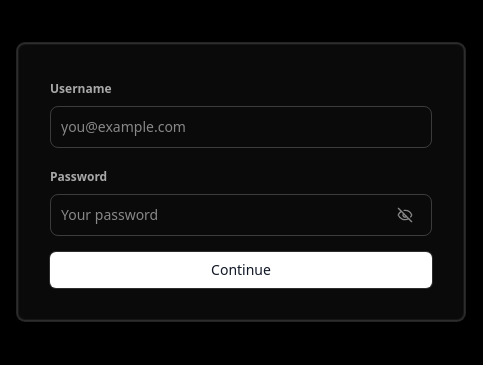
FluidLoginScreen runtime host › surfaces a validation failure instead of submitting
Type "ada@example.com" into the field with placeholder "you@example.com" at [241, 127], box [61,117,421,137]
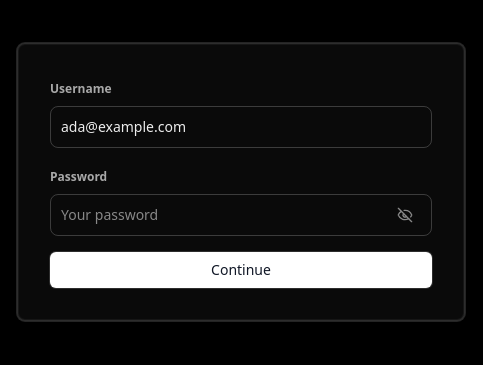
Click the button "Continue" at [241, 270], box [50,252,432,288]
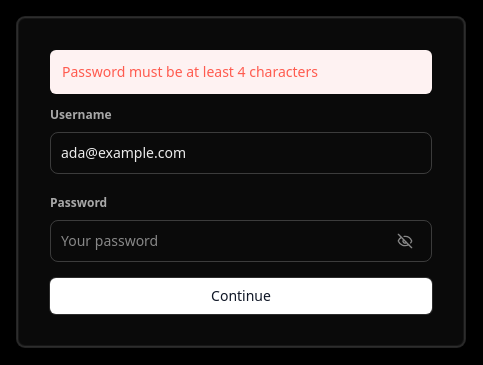
Now the text "Password must be at least 4 characters" is shown, box [50,50,432,94]
